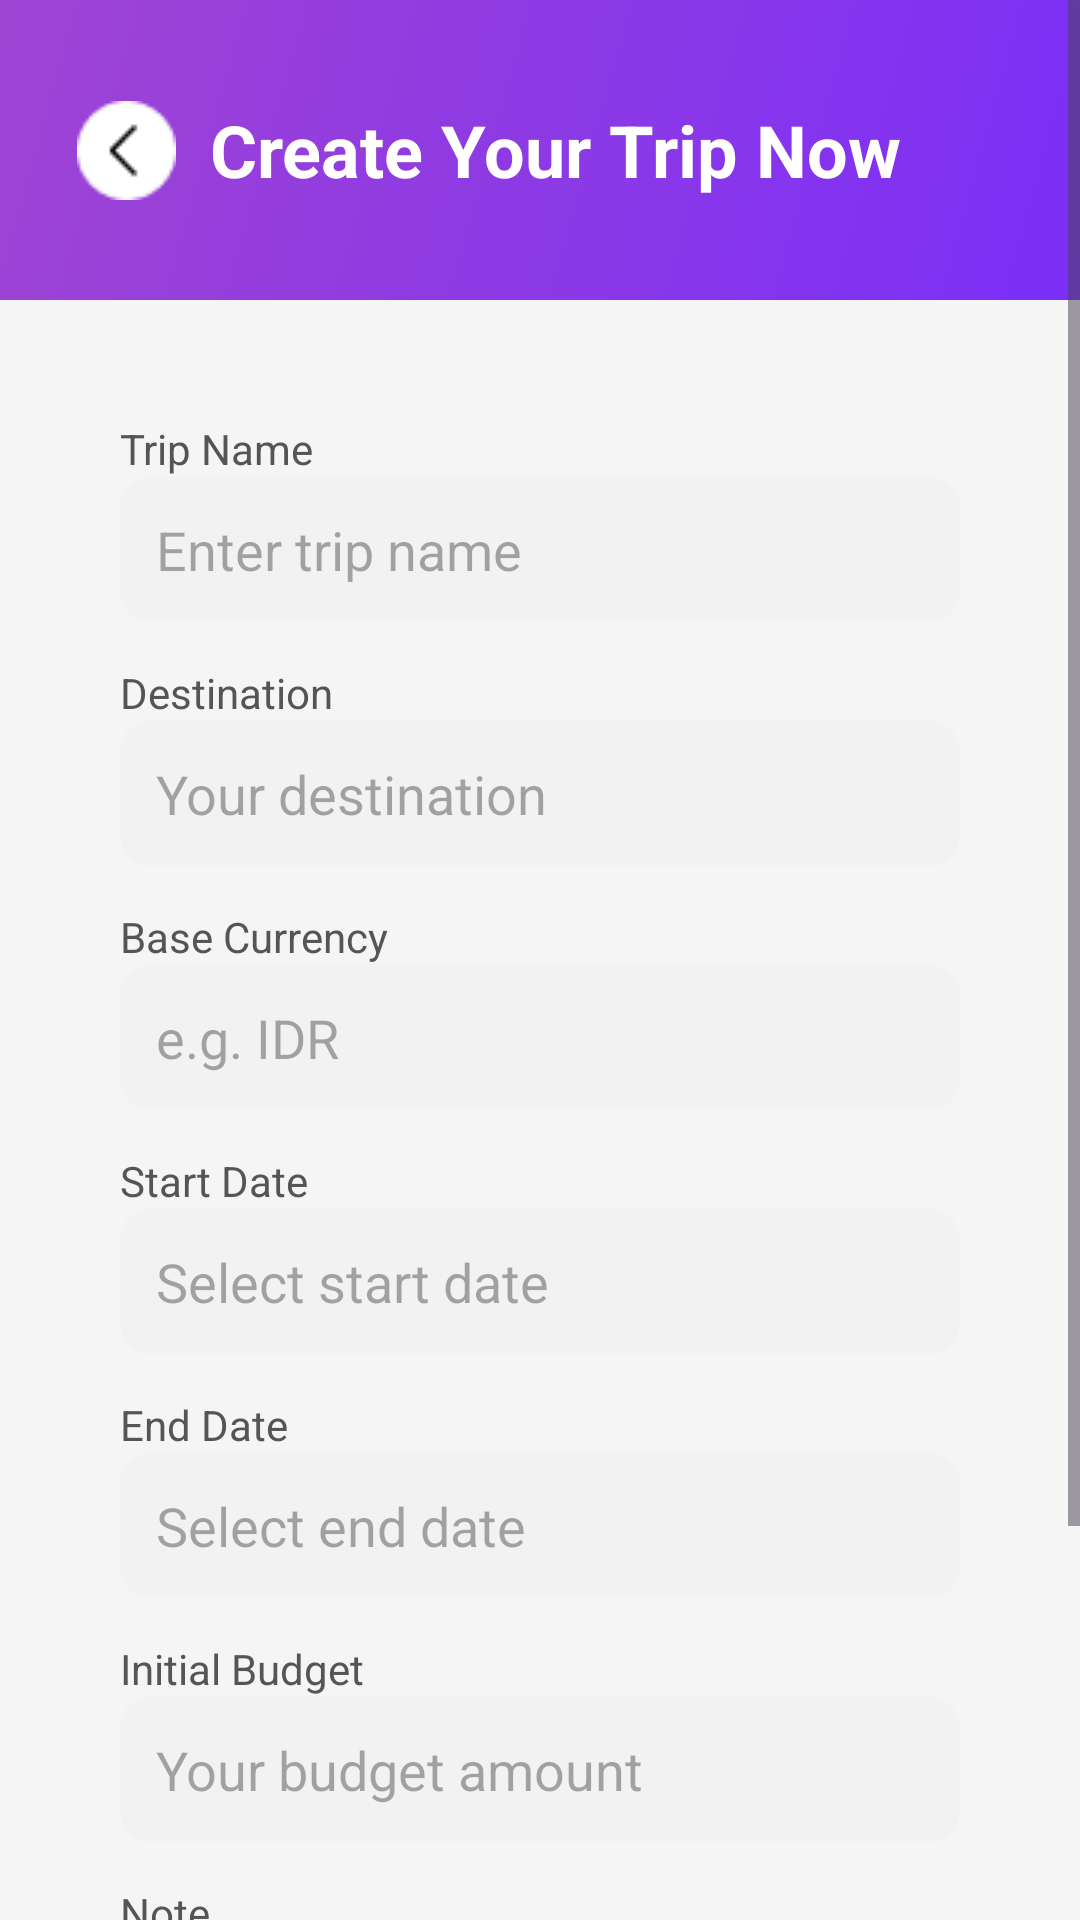

Icons on this 1080*1920 Android screen, each with the point to tap as (x,y):
back: (126,150)
